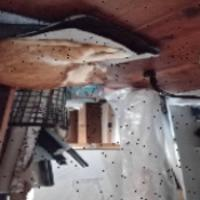asleep: (0, 37, 132, 90)
